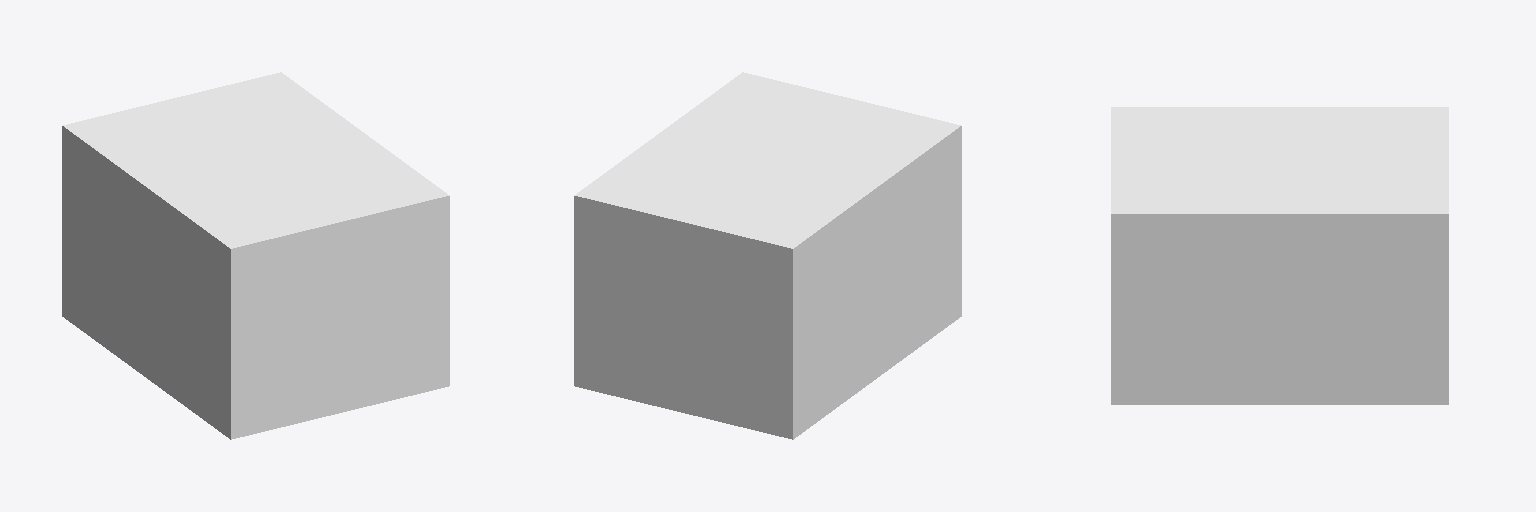
The model's file is treasure.obj.
The picture shows the model from 3 angles: view 1: azimuth 30°, elevation 25°; view 2: azimuth 150°, elevation 25°; view 3: azimuth 270°, elevation 25°; orthographic projection.
Size of the model in its own units: 6 by 5 by 8.